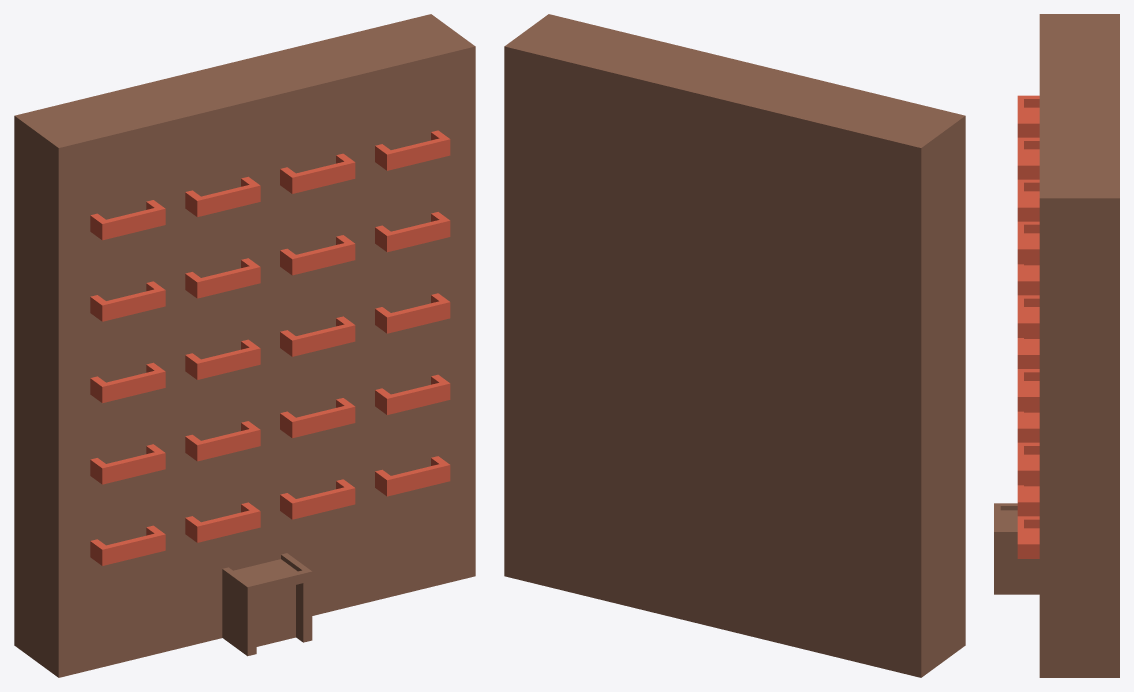
The model's file is building.gltf.
The picture shows the model from 3 angles, left to right: view 1: azimuth 30°, elevation 25°; view 2: azimuth 150°, elevation 25°; view 3: azimuth 270°, elevation 25°; orthographic projection. The views are drawn at different scales.
Parts seen in each view (by area): view 1: Cube.028; view 2: Cube.028; view 3: Cube.028.
Part boxes in pixels (bbox=[...]): Cube.028: bbox=[14, 14, 475, 677]; Cube.028: bbox=[504, 14, 965, 677]; Cube.028: bbox=[994, 14, 1119, 677].
Bounding box in the file's own units: 8.69 × 10.55 × 2.51.
